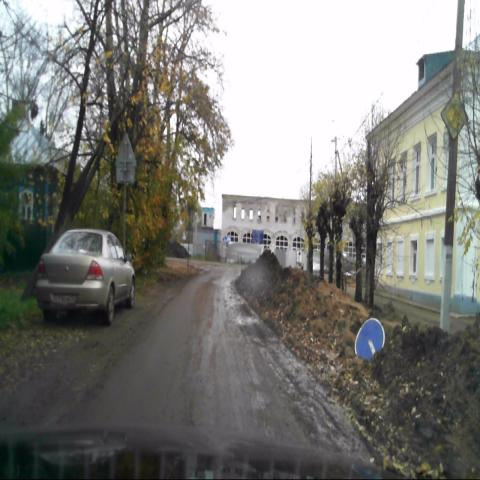2_1: (442, 90, 467, 142)
